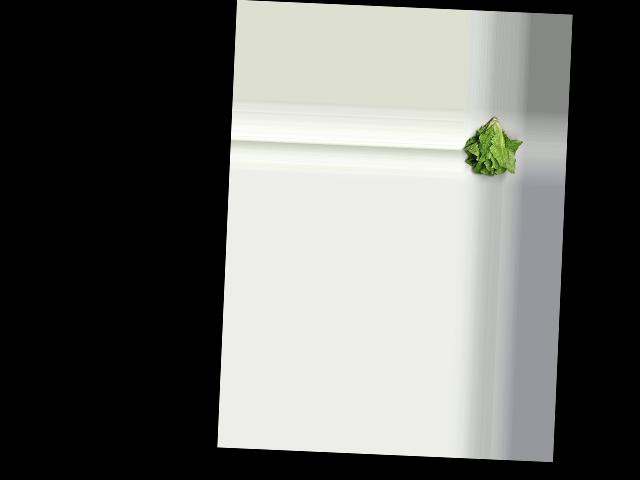lettuce: (463, 113, 517, 180)
